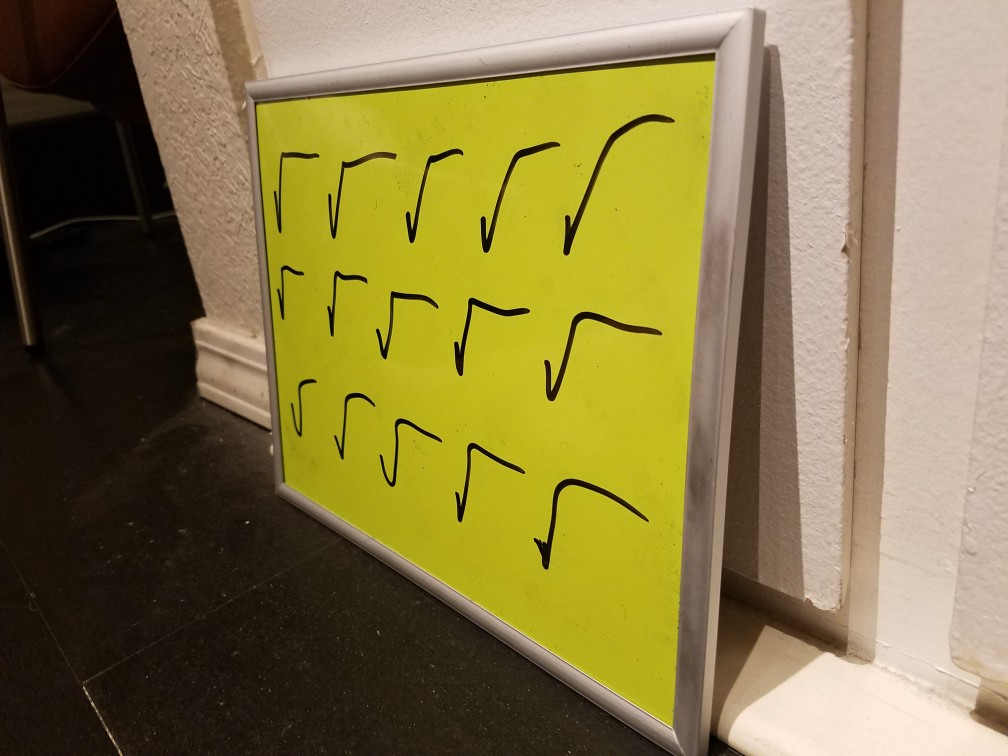sqrt: (533, 289, 675, 439), (559, 105, 680, 273), (529, 458, 653, 605), (440, 280, 532, 394), (469, 140, 554, 259), (451, 427, 529, 550), (375, 398, 446, 517), (317, 145, 393, 246), (398, 147, 465, 251), (375, 274, 439, 375), (264, 142, 318, 239), (323, 260, 373, 356), (282, 360, 322, 453), (329, 383, 369, 474), (274, 259, 301, 327)
